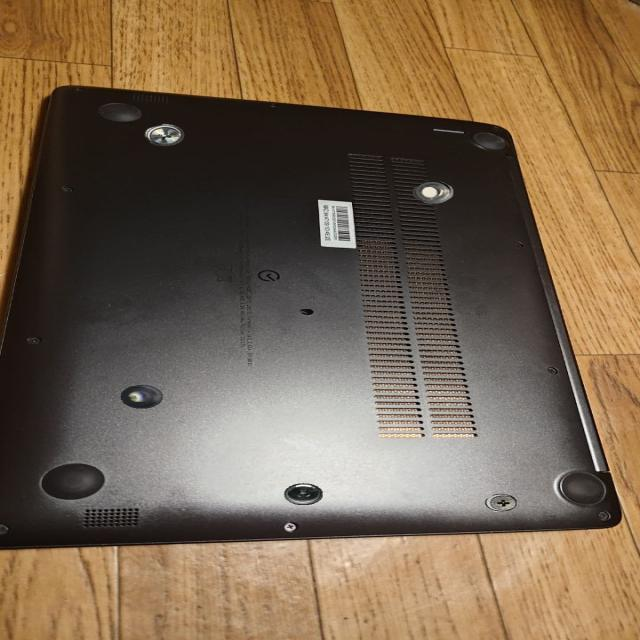lock: (284, 483, 323, 505), (144, 124, 183, 146), (483, 493, 516, 512)
missing_screw: (120, 384, 163, 408), (412, 180, 453, 204)
